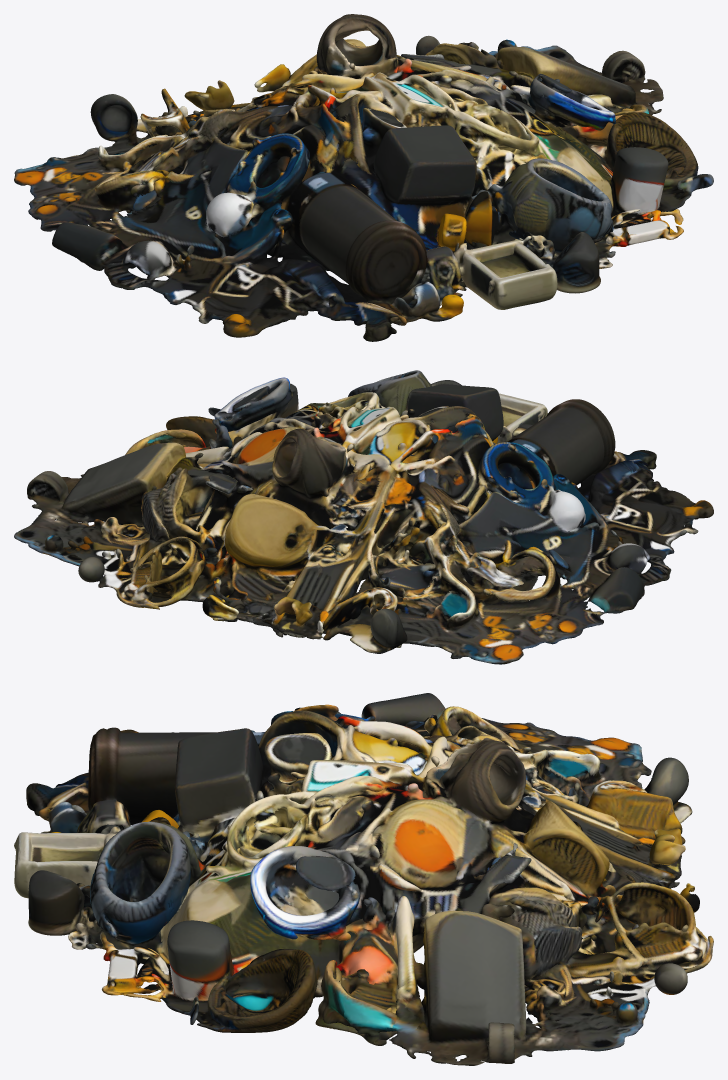
The model's file is garbage+pile+3d+model.fbx.
3 renders of one model, top to bottom at view 1: azimuth 30°, elevation 25°; view 2: azimuth 150°, elevation 25°; view 3: azimuth 270°, elevation 25°, orthographic. The views are drawn at different scales.
Parts seen in each view (by area): view 1: tripo_node_2691c2df-230a-4d3f-a5b9-d84a7f5e2537; view 2: tripo_node_2691c2df-230a-4d3f-a5b9-d84a7f5e2537; view 3: tripo_node_2691c2df-230a-4d3f-a5b9-d84a7f5e2537.
Part boxes in pixels (x1=…): tripo_node_2691c2df-230a-4d3f-a5b9-d84a7f5e2537: x1=14, y1=14, x2=713, y2=341; tripo_node_2691c2df-230a-4d3f-a5b9-d84a7f5e2537: x1=14, y1=370, x2=713, y2=664; tripo_node_2691c2df-230a-4d3f-a5b9-d84a7f5e2537: x1=14, y1=693, x2=713, y2=1065.
Bounding box in the file's own units: 1 × 0.2395 × 0.8376.
Materials: 1 (1 with a texture image).
